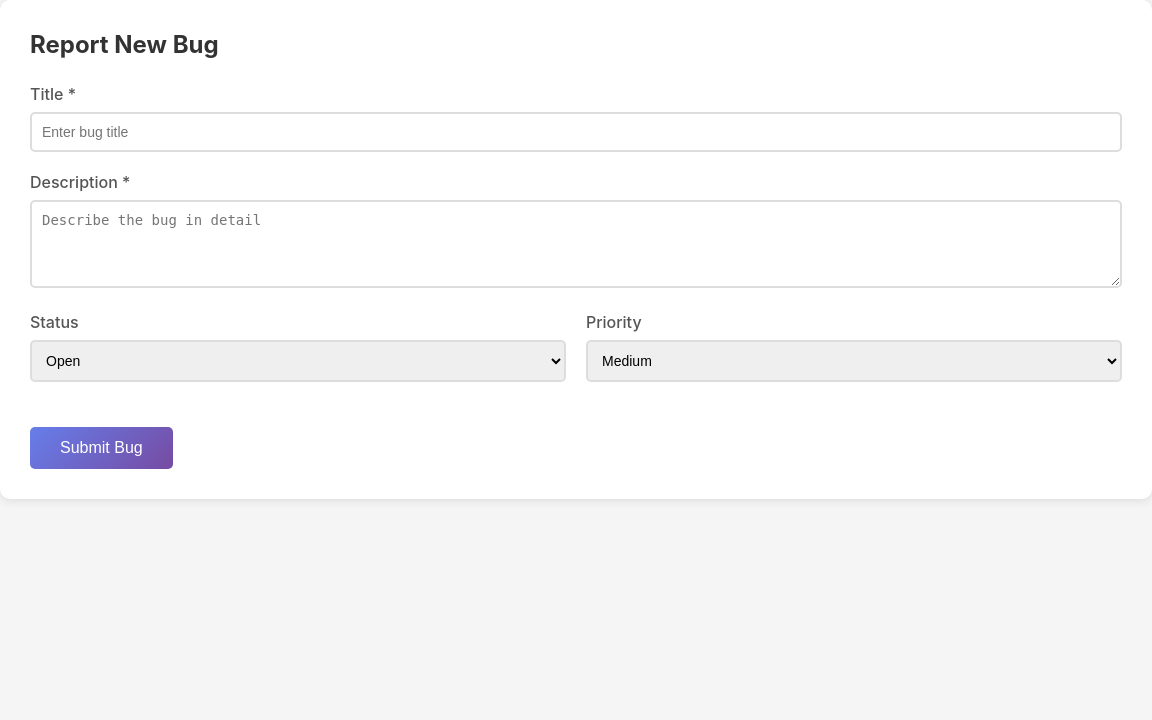
Test: BugForm Component › displays validation error when title is empty
Click the button "Submit Bug".
click(101, 448)  # box [30,427,173,469]
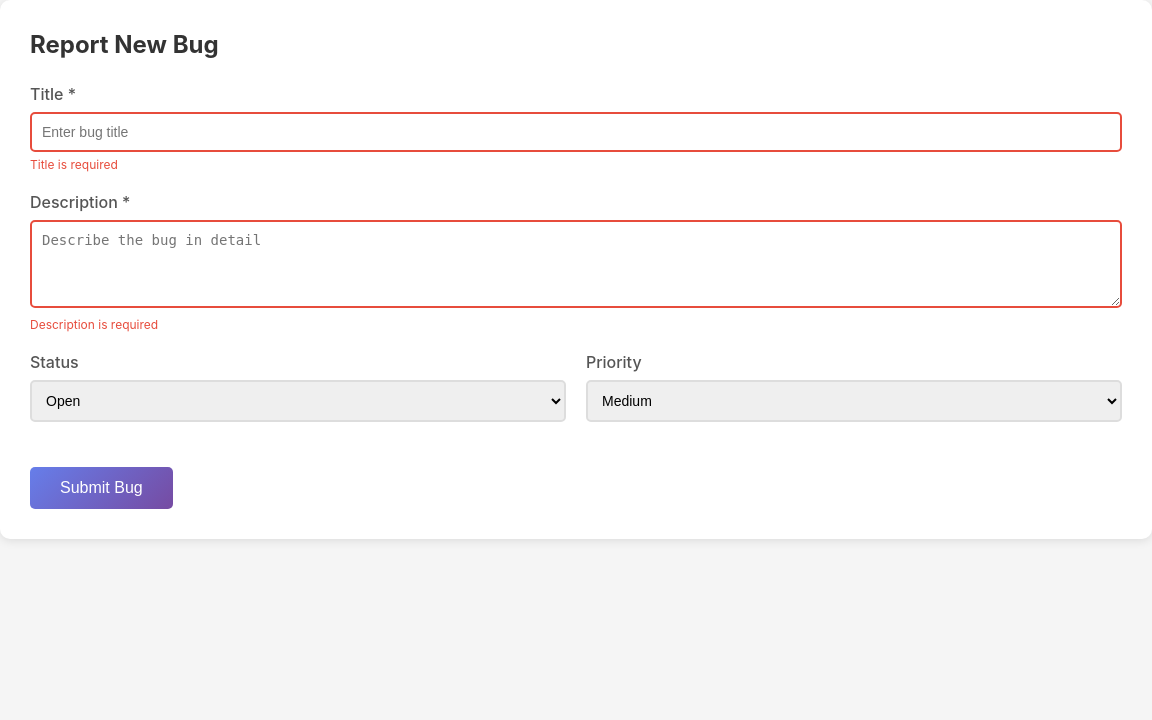
Check: the text "Title is required" is shown, box [30,157,118,172]
